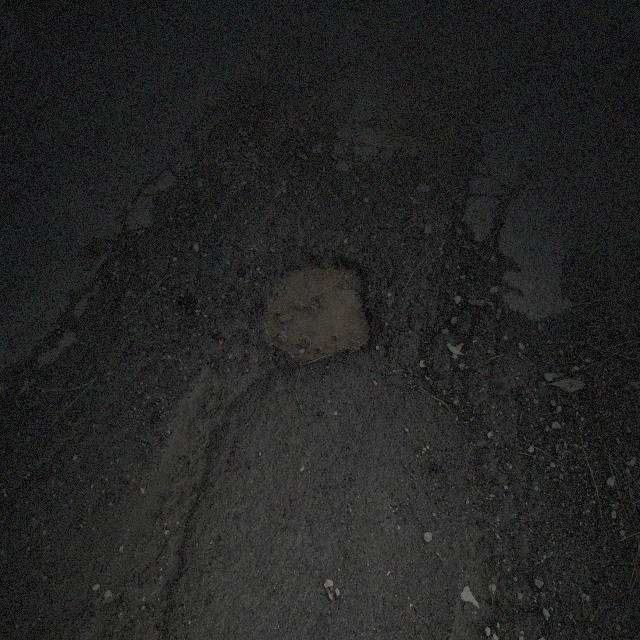pothole: (108, 343, 233, 587), (258, 245, 380, 372), (410, 112, 483, 220)
